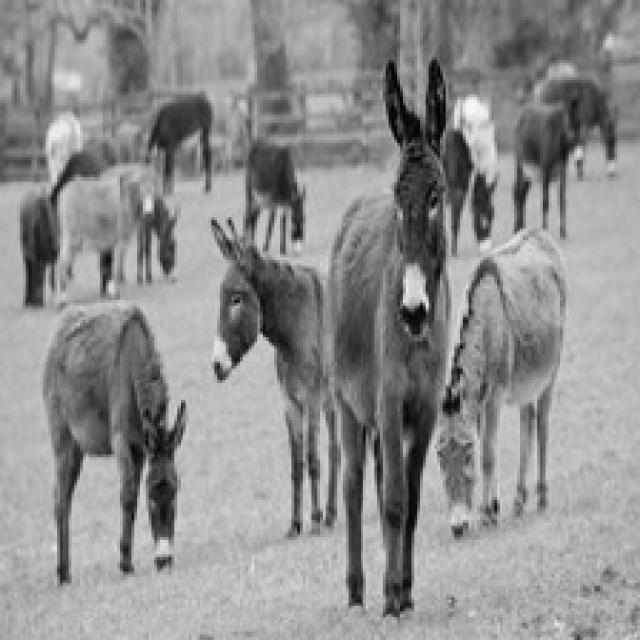Donkey: (320, 54, 451, 626), (40, 297, 186, 583), (434, 226, 566, 537), (209, 214, 334, 537), (49, 160, 154, 309), (97, 160, 177, 283), (443, 92, 500, 255), (532, 69, 617, 177), (512, 100, 574, 237), (240, 134, 306, 254), (146, 92, 211, 195), (440, 126, 471, 254), (134, 191, 177, 283)
